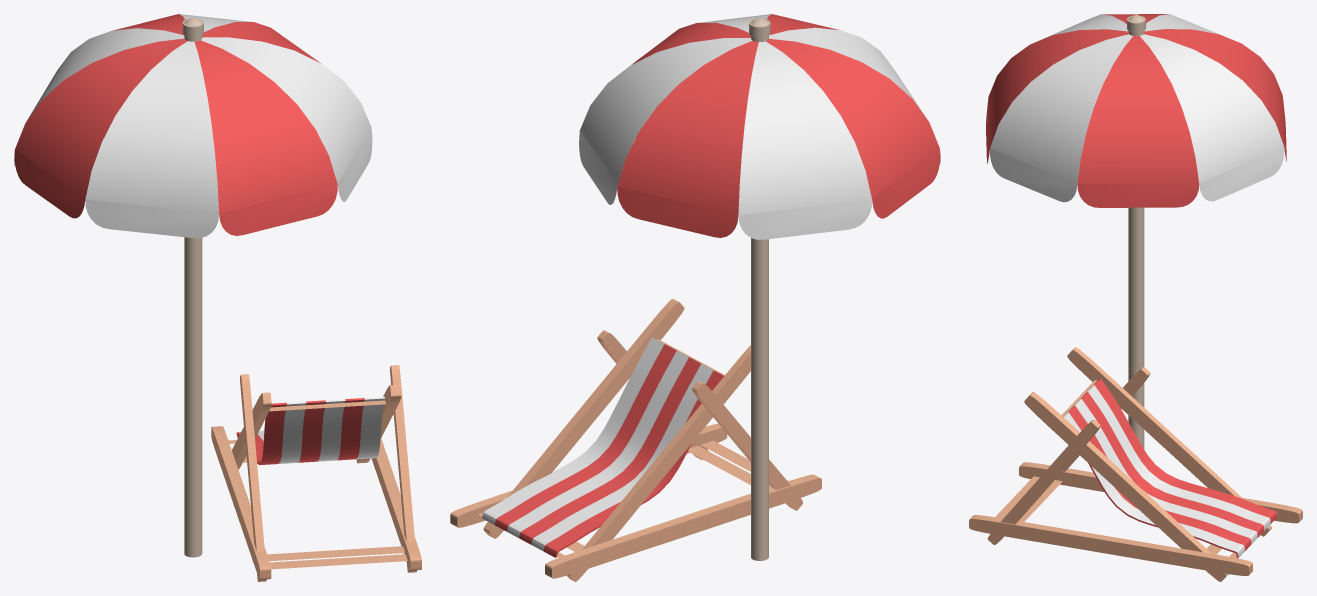
Rendered from outElement1.glb.
The picture shows the model from 3 angles, left to right: view 1: azimuth 30°, elevation 25°; view 2: azimuth 150°, elevation 25°; view 3: azimuth 270°, elevation 25°; orthographic projection. The views are drawn at different scales.
Visible parts, largest first — view 1: Cube.005; view 2: Cube.005; view 3: Cube.005.
Part boxes in pixels (left/top/right/bottom): Cube.005: left=14, top=14, right=421, bottom=581; Cube.005: left=450, top=14, right=940, bottom=581; Cube.005: left=969, top=14, right=1302, bottom=581.
Size of the model in its own units: 11.23 by 14.72 by 9.39.
